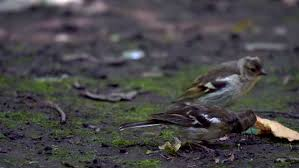home_sparrow: (117, 103, 277, 168), (166, 48, 276, 114)
